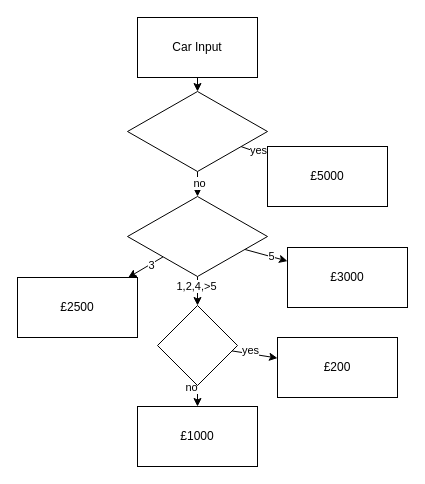
The diagram is 425 pixels wide and 484 high, and some of its shapes have lost their labels. Each missing label, with the box of its shape:
How many doors?: (126, 196, 268, 276)
Is it red?: (156, 304, 238, 386)
Is the mileage > 50,000: (126, 90, 268, 172)
